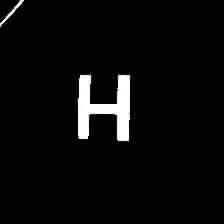LTR_H: (69, 62, 135, 150)
